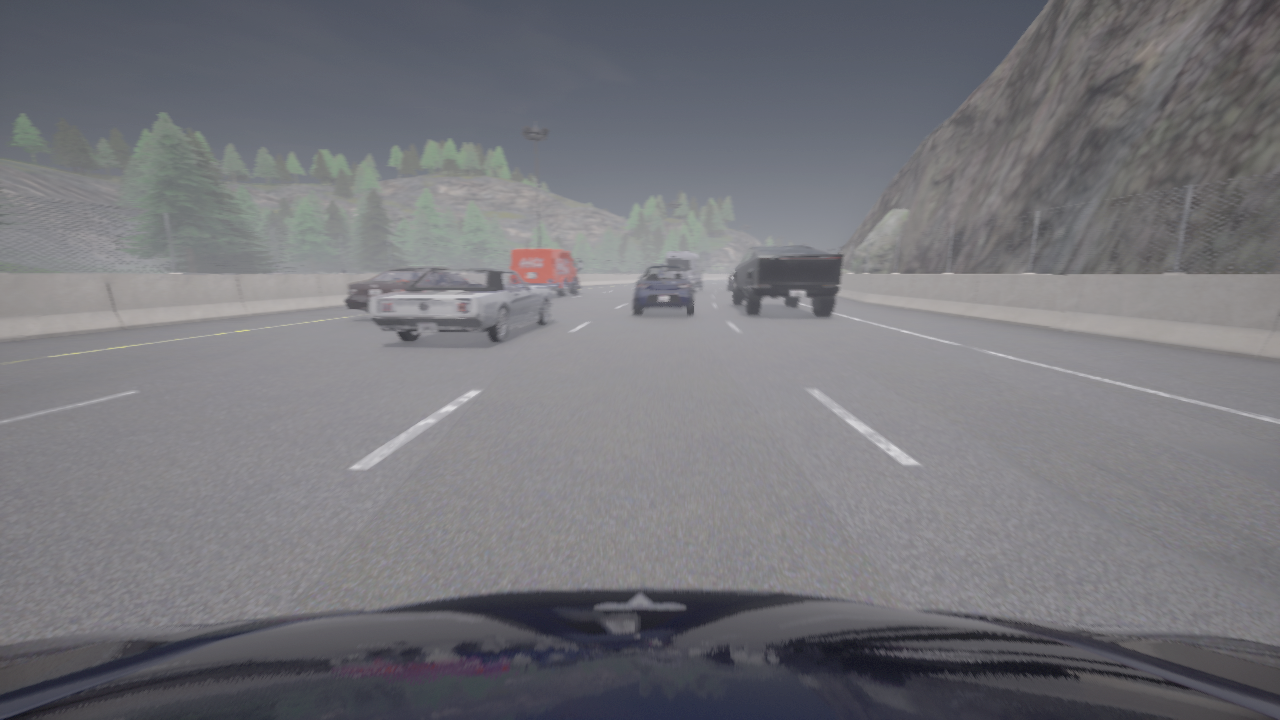cyclist: (0, 588, 1279, 719), (369, 268, 551, 342), (731, 245, 841, 315), (344, 267, 448, 315), (510, 248, 581, 296), (633, 264, 694, 315), (665, 252, 704, 292), (728, 264, 737, 291)
